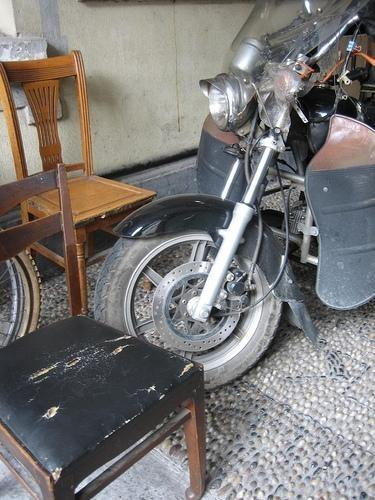motorcycle: (98, 5, 374, 388)
